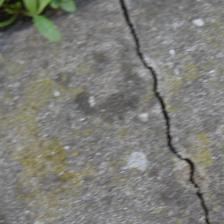Crack: (60, 3, 150, 220)
